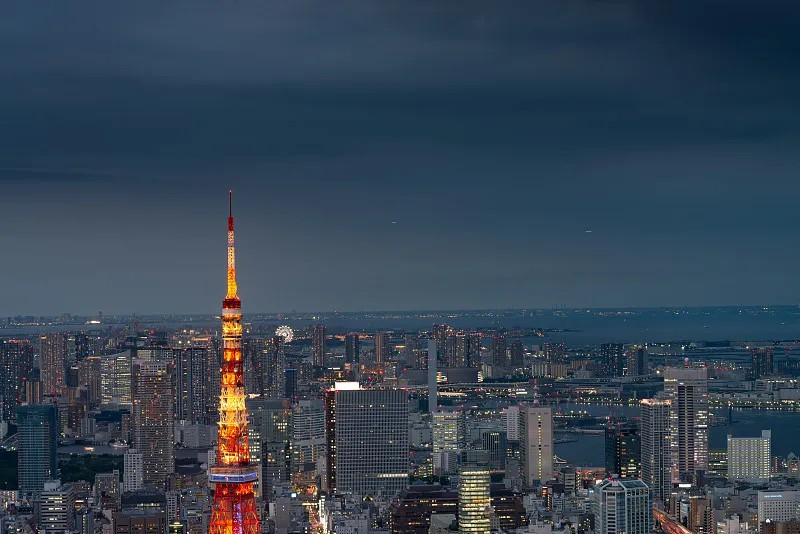Tokyo: (206, 189, 262, 534)
